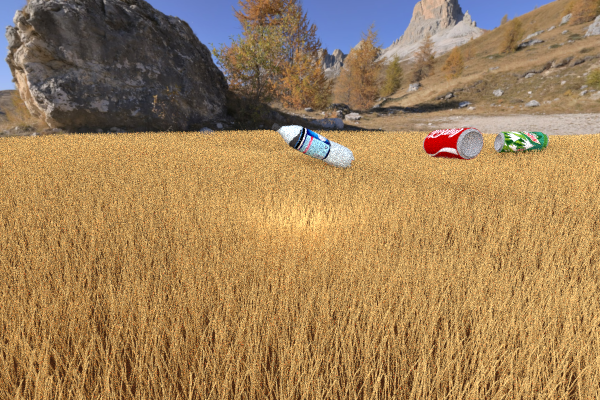Plastic Bottle: (271, 123, 354, 169), (422, 127, 483, 159), (494, 131, 548, 153)
